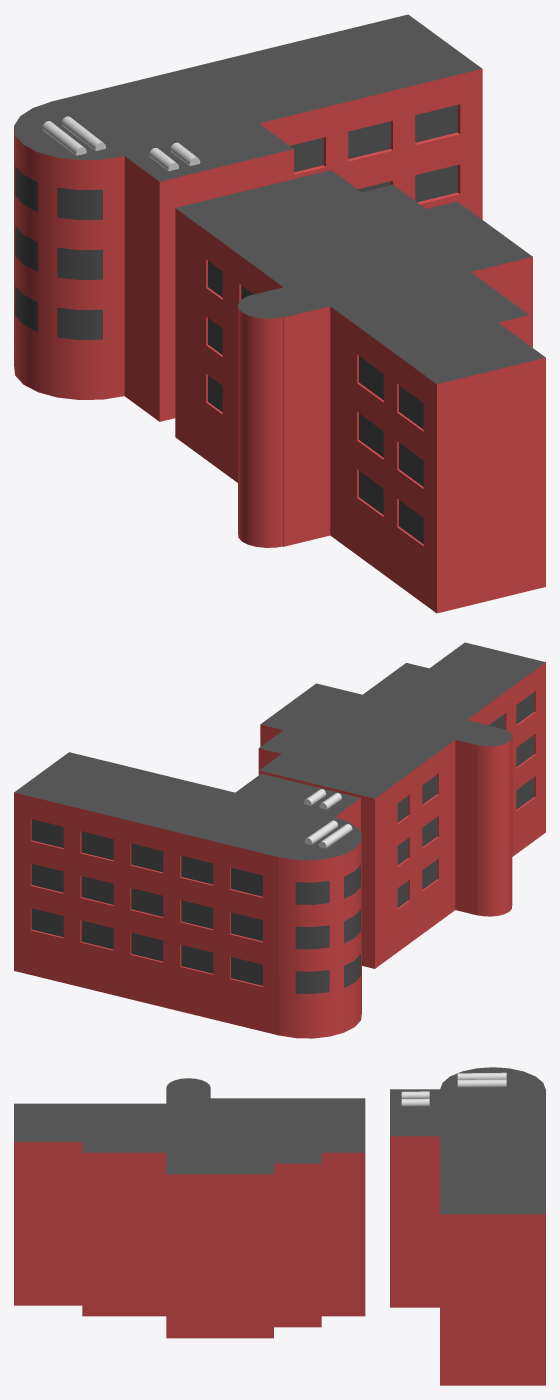
3 renders of one model, top to bottom at view 1: azimuth 30°, elevation 25°; view 2: azimuth 150°, elevation 25°; view 3: azimuth 270°, elevation 25°, orthographic. The views are drawn at different scales.
Visible parts, largest first — view 1: polySurface1; view 2: polySurface1; view 3: polySurface1.
Boxes of the visible parts, x1,y1,x2,y2 form: polySurface1: (14,14,545,613); polySurface1: (14,642,545,1038); polySurface1: (14,1067,545,1385).
Bounding box in the file's own units: 10.74 × 6.1 × 16.42.
